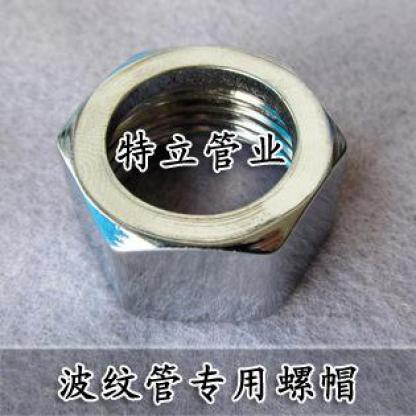FOD: (53, 42, 351, 328)
